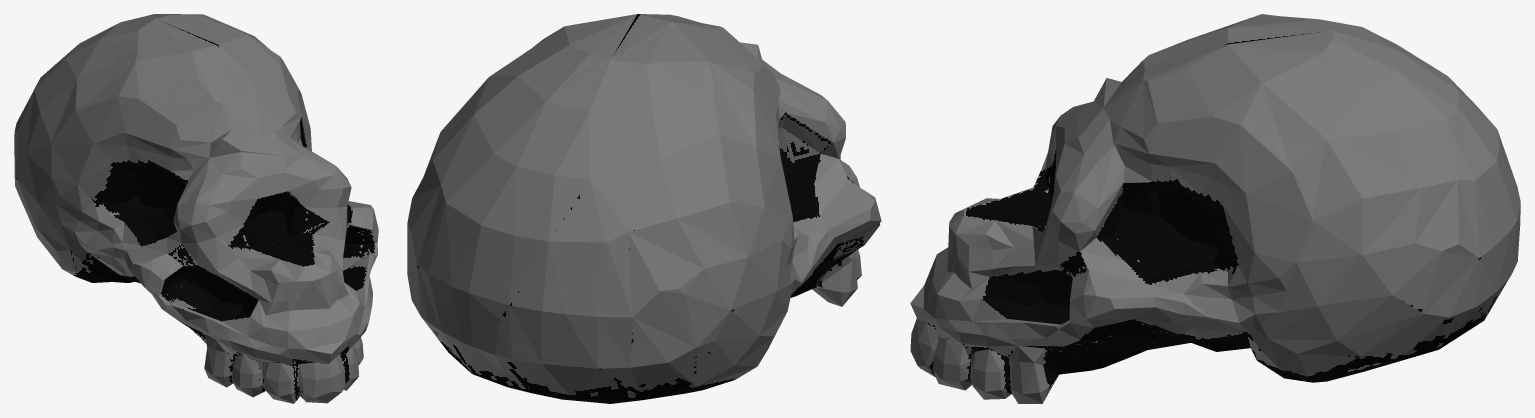
3 renders of one model, left to right at view 1: azimuth 30°, elevation 25°; view 2: azimuth 150°, elevation 25°; view 3: azimuth 270°, elevation 25°, orthographic. The views are drawn at different scales.
Visible parts, largest first — view 1: OBJ0c2; view 2: OBJ0c2; view 3: OBJ0c2.
Part boxes in pixels (bbox=[...]): OBJ0c2: bbox=[14, 14, 378, 403]; OBJ0c2: bbox=[407, 14, 881, 403]; OBJ0c2: bbox=[910, 14, 1520, 403].
Size of the model in its own units: 0.1868 by 0.184 by 0.3044.
Materials: 1 (1 with a texture image).
